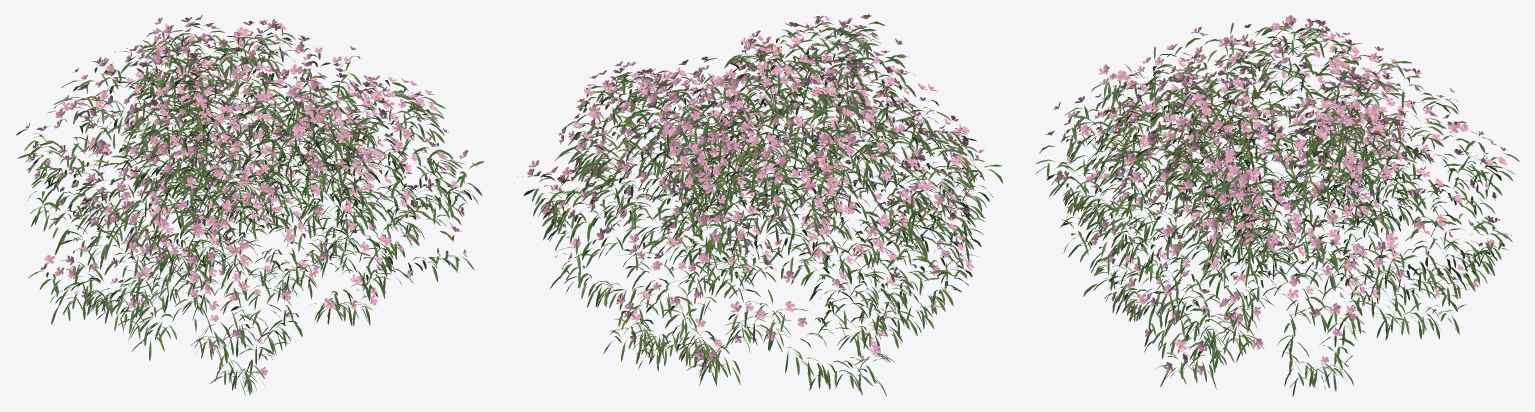
File: MESH_BS09_NeriumOleander_A_LOD1.fbx
3 views of the same model, side by side, from view 1: azimuth 30°, elevation 25°; view 2: azimuth 150°, elevation 25°; view 3: azimuth 270°, elevation 25° (orthographic). The views are drawn at different scales.
Visible parts, largest first — view 1: MI_LOD1_001, MI_LOD1_002; view 2: MI_LOD1_001, MI_LOD1_002; view 3: MI_LOD1_001, MI_LOD1_002.
Boxes of the visible parts, x1,y1,x2,y2 form: MI_LOD1_001: (16,23,484,395); MI_LOD1_002: (25,14,477,375); MI_LOD1_001: (517,18,1002,396); MI_LOD1_002: (527,14,984,369); MI_LOD1_001: (1035,22,1519,396); MI_LOD1_002: (1045,15,1507,375).
Size of what is drawn, in the model's own units: 362 by 265 by 368.
